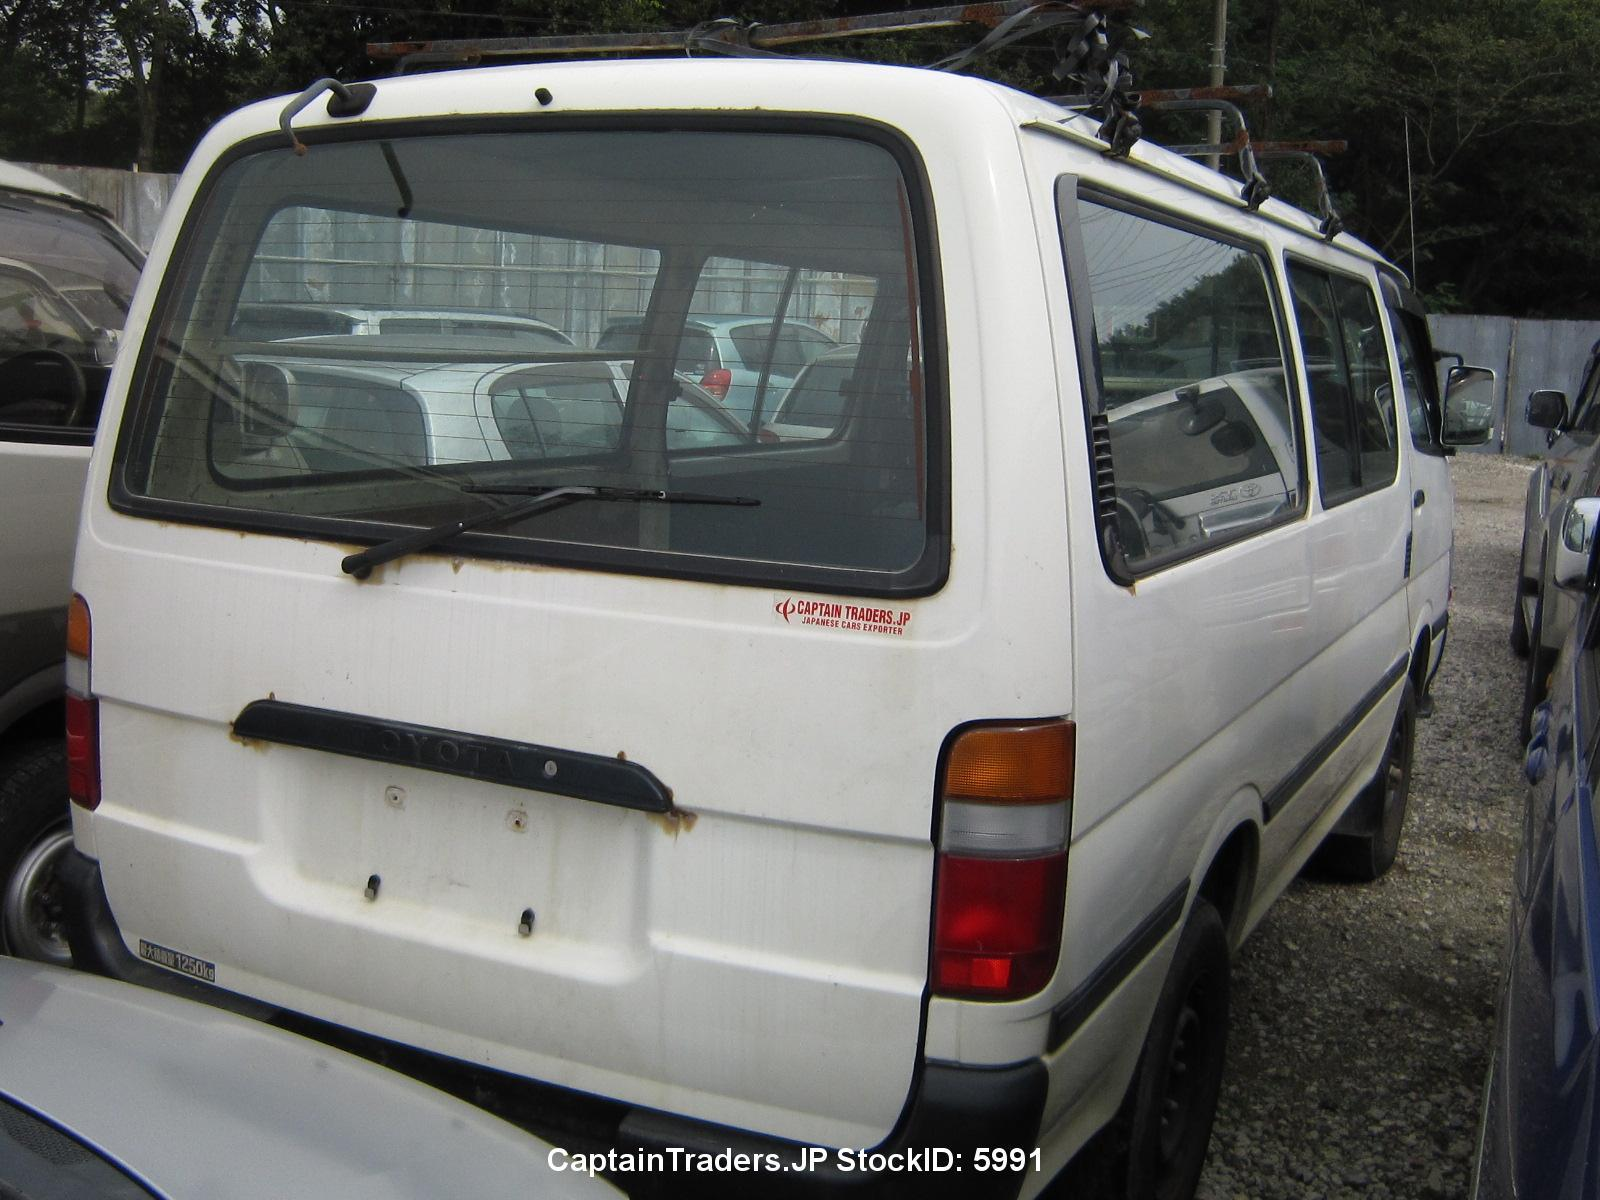van: (88, 67, 1470, 1177)
